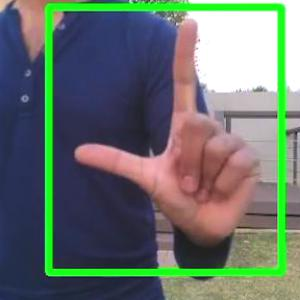land_hand: (62, 5, 271, 254)
